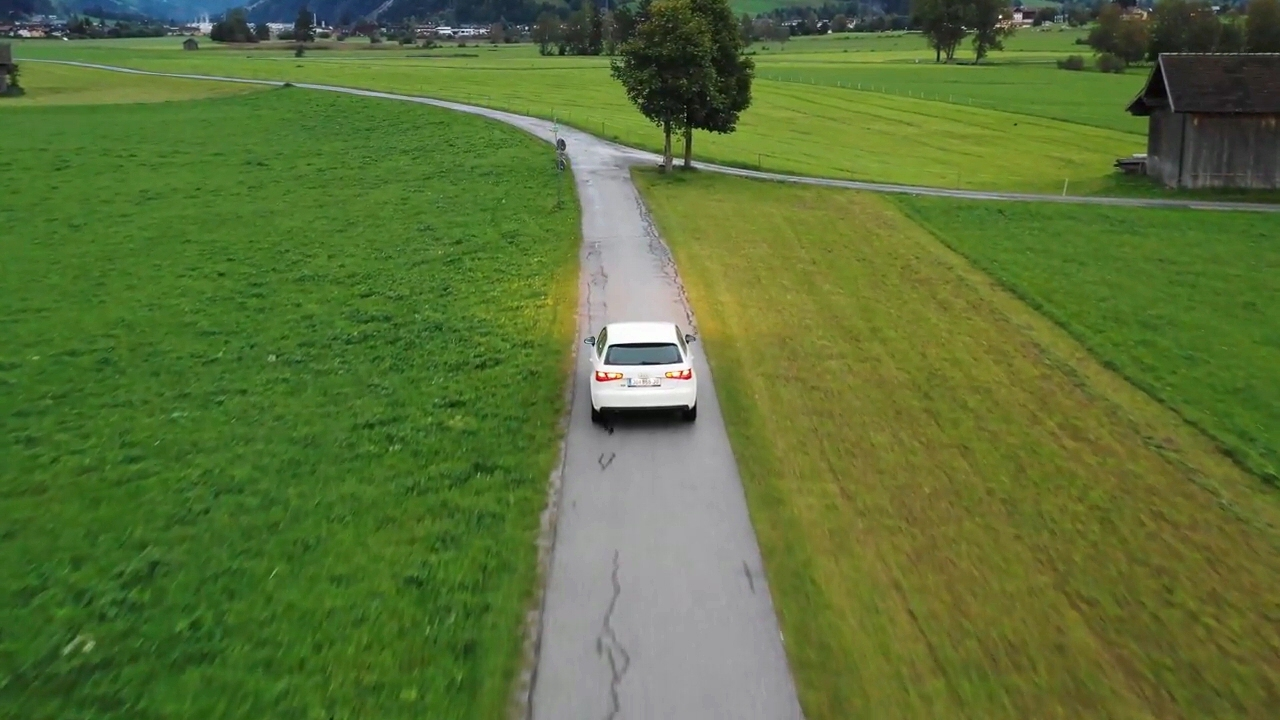araba: (590, 322, 699, 427)
